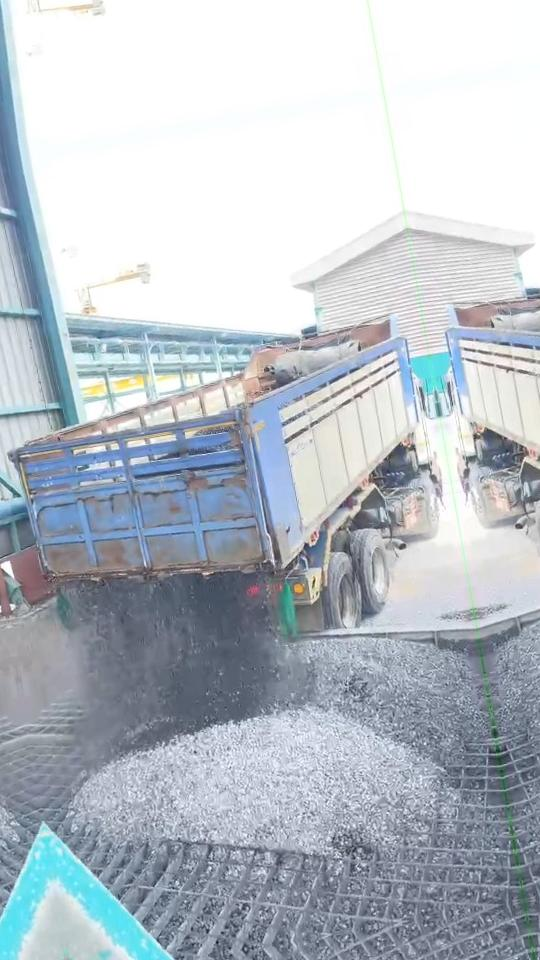gravel: (72, 637, 491, 853), (62, 574, 290, 762)
